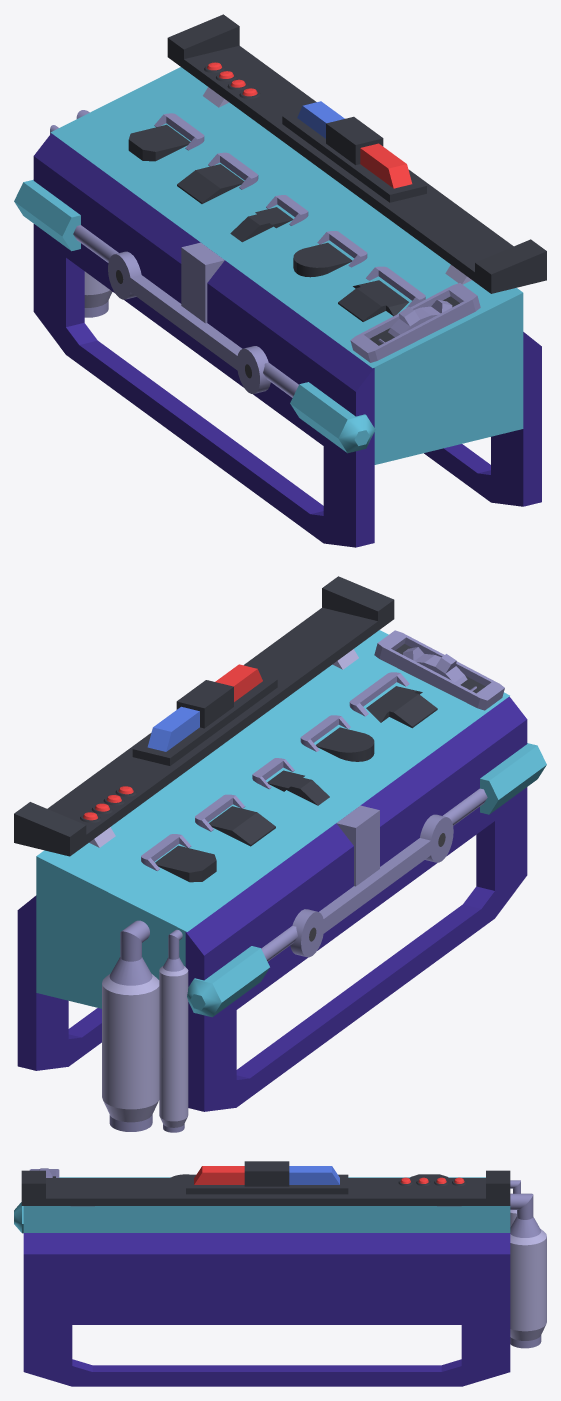
File: desk.fbx
The picture shows the model from 3 angles, top to bottom: view 1: azimuth 30°, elevation 25°; view 2: azimuth 150°, elevation 25°; view 3: azimuth 270°, elevation 25°; orthographic projection. The views are drawn at different scales.
Visible parts, largest first — view 1: hull_cargoLower, wedge, spoiler_fins, bogie_frame_connection, detail_piston (×2), detail_sirenDouble, roof_flatSingle, bumper (×4), guard_slant_cross, guard_slant, guard, guard_round (+3 smaller); view 2: hull_cargoLower, wedge, spoiler_fins, detail_exhaustVertical, bogie_frame_connection, detail_piston (×2), detail_sirenDouble, detail_exhaustVerticalThin, roof_flatSingle, bumper (×4), guard_slant_cross, guard_slant (+4 smaller); view 3: hull_cargoLower, wedge, spoiler_fins, detail_exhaustVertical, detail_sirenDouble.
Boxes of the visible parts, <box> form: hull_cargoLower: <box>33,133,541,547</box>; wedge: <box>50,67,523,368</box>; spoiler_fins: <box>167,14,546,293</box>; bogie_frame_connection: <box>108,242,270,393</box>; detail_piston (×2): <box>14,179,375,453</box>; detail_sirenDouble: <box>282,101,426,202</box>; roof_flatSingle: <box>350,283,480,362</box>; bumper (×4): <box>154,113,425,307</box>; guard_slant_cross: <box>338,280,408,321</box>; guard_slant: <box>177,164,243,203</box>; guard: <box>128,124,190,161</box>; guard_round: <box>293,242,352,277</box>; hull_cargoLower: <box>17,696,527,1111</box>; wedge: <box>36,630,509,931</box>; spoiler_fins: <box>14,576,394,856</box>; detail_exhaustVertical: <box>102,920,159,1131</box>; bogie_frame_connection: <box>290,805,453,957</box>; detail_piston (×2): <box>187,743,546,1017</box>; detail_sirenDouble: <box>132,664,277,765</box>; detail_exhaustVerticalThin: <box>159,929,188,1132</box>; roof_flatSingle: <box>374,630,504,710</box>; bumper (×4): <box>141,672,409,870</box>; guard_slant_cross: <box>366,686,437,728</box>; guard_slant: <box>209,806,275,846</box>; hull_cargoLower: <box>23,1233,510,1386</box>; wedge: <box>23,1177,510,1232</box>; spoiler_fins: <box>21,1170,510,1206</box>; detail_exhaustVertical: <box>510,1193,546,1348</box>; detail_sirenDouble: <box>186,1161,348,1194</box>.
Size of the model in its own units: 22.4 by 28.69 by 65.7.
